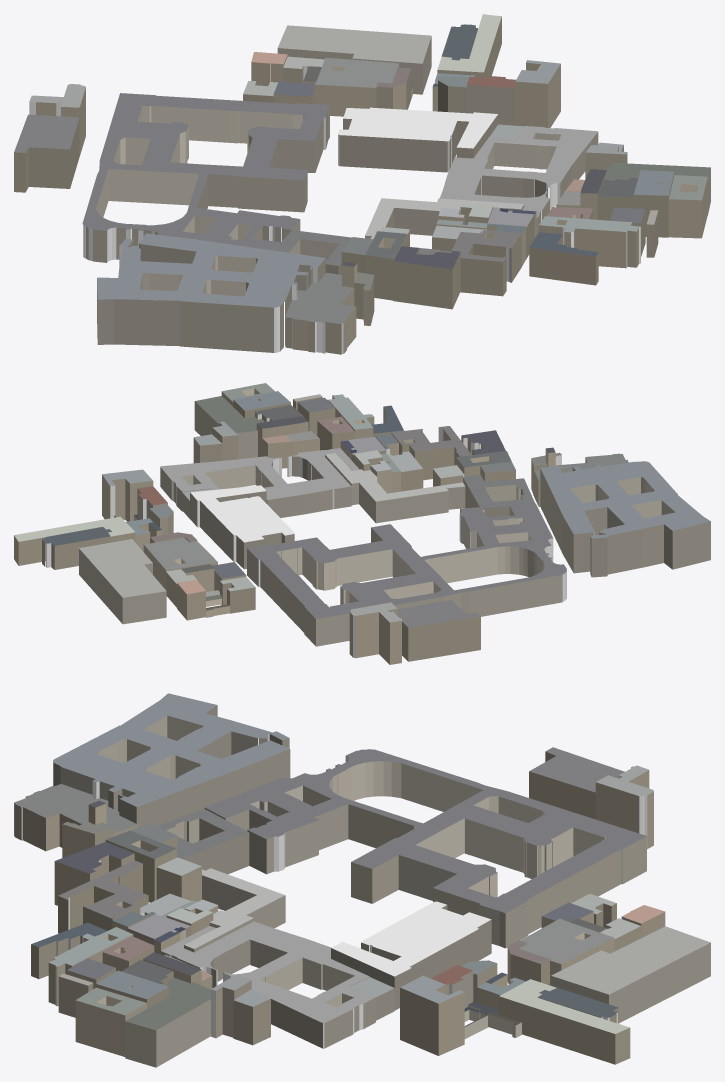
The picture shows the model from 3 angles, top to bottom: view 1: azimuth 30°, elevation 25°; view 2: azimuth 150°, elevation 25°; view 3: azimuth 270°, elevation 25°; orthographic projection. The views are drawn at different scales.
Visible parts, largest first — view 1: tuile; view 2: tuile; view 3: tuile.
Part boxes in pixels (<box>): tuile: <box>14,14,710,354</box>; tuile: <box>14,383,710,664</box>; tuile: <box>14,693,710,1067</box>.
Bounding box in the file's own units: 327 × 26.81 × 297.
